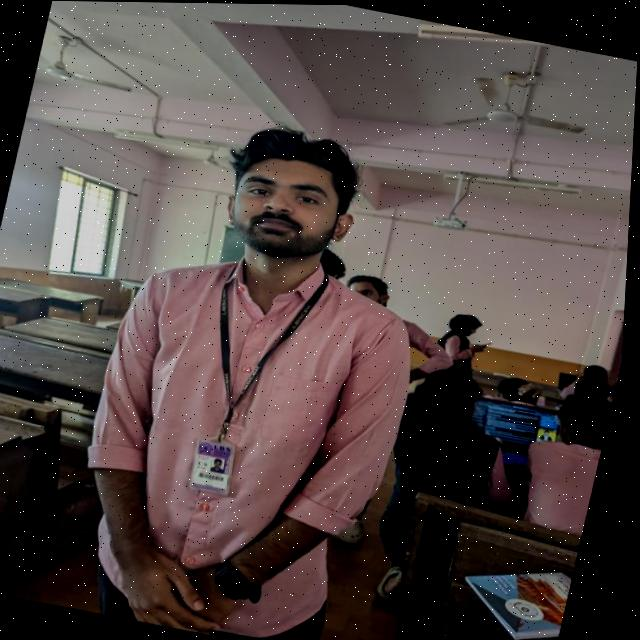id_card: (170, 249, 332, 513)
